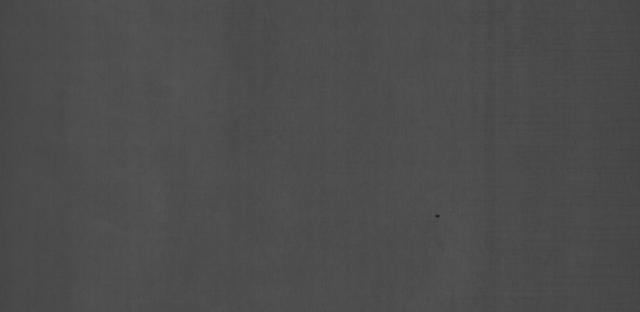inclusion: (417, 204, 453, 227)
